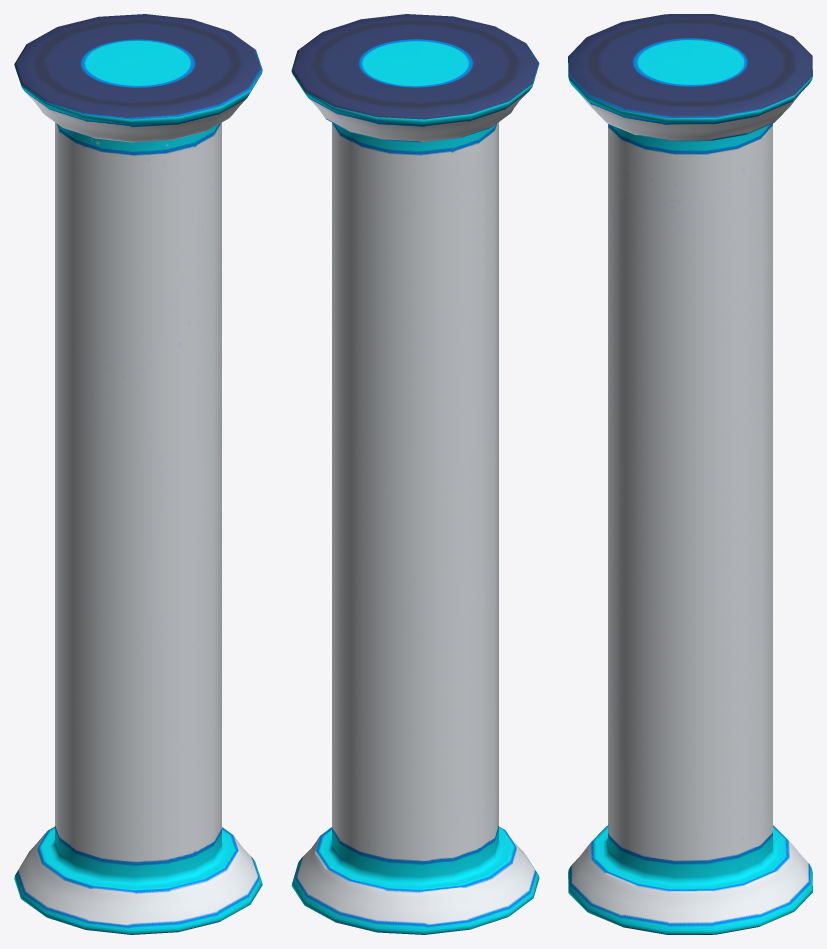
File: GDW_1_Y2 - Pillar.obj
3 views of the same model, side by side, from view 1: azimuth 30°, elevation 25°; view 2: azimuth 150°, elevation 25°; view 3: azimuth 270°, elevation 25° (orthographic).
Parts seen in each view (by area): view 1: Pillar_Cylinder; view 2: Pillar_Cylinder; view 3: Pillar_Cylinder.
Part boxes in pixels (bbox=[...]): Pillar_Cylinder: bbox=[14, 14, 262, 934]; Pillar_Cylinder: bbox=[291, 14, 539, 934]; Pillar_Cylinder: bbox=[568, 14, 812, 934].
Size of the model in its own units: 0.8088 by 3 by 0.8092.
1 material, 1 textured.
